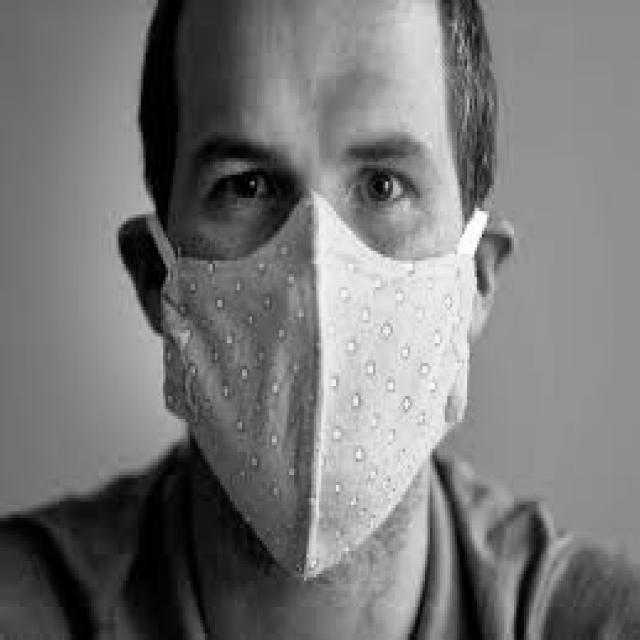with_mask: (143, 188, 490, 581)
